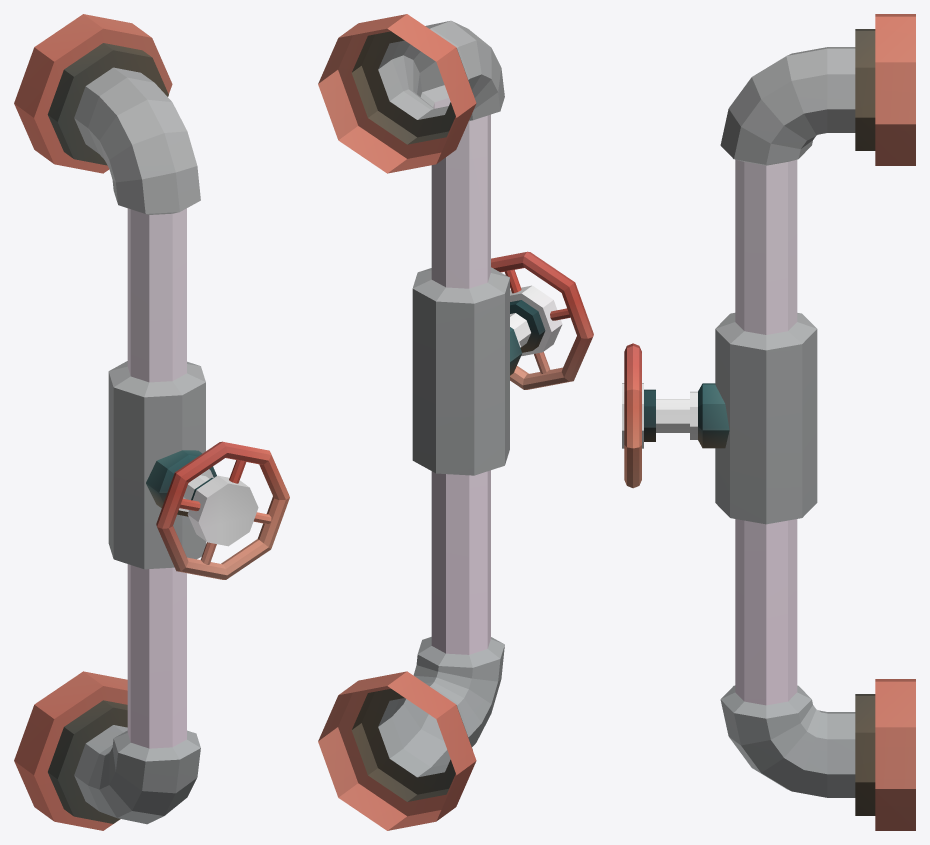
File: Pipe_U_shaped_valve.fbx
3 views of the same model, side by side, from view 1: azimuth 30°, elevation 25°; view 2: azimuth 150°, elevation 25°; view 3: azimuth 270°, elevation 25° (orthographic).
Parts seen in each view (by area): view 1: Pipe_U_shaped_valve; view 2: Pipe_U_shaped_valve; view 3: Pipe_U_shaped_valve.
Part boxes in pixels (x1,y1,x2,y2): Pipe_U_shaped_valve: (14,14,289,830); Pipe_U_shaped_valve: (318,14,593,830); Pipe_U_shaped_valve: (622,14,915,830).
Size of the model in its own units: 32.45 by 180 by 58.92.
